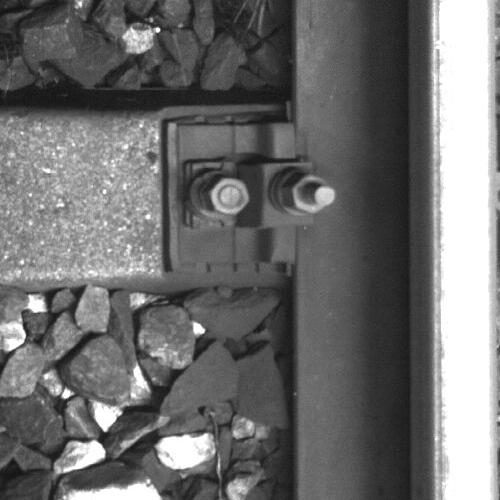kb: (178, 124, 339, 266)
nut: (282, 175, 335, 216), (203, 174, 252, 214)
rail: (429, 1, 497, 500)
tie_concr: (1, 105, 293, 273)
